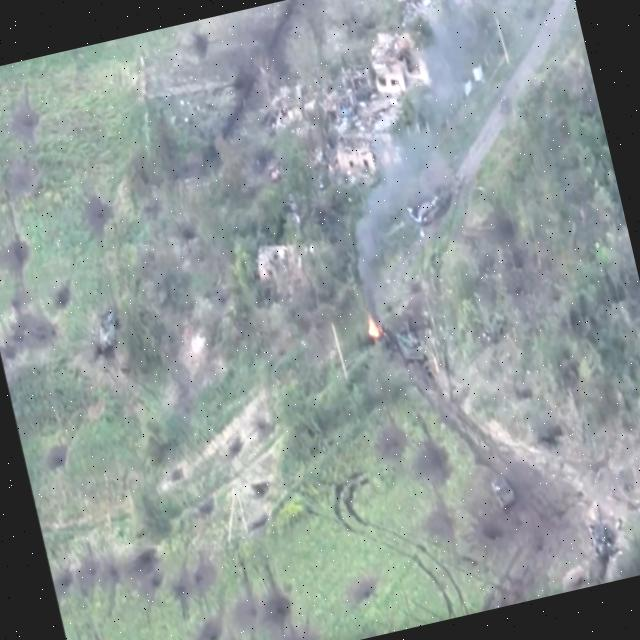AIFV: (91, 307, 126, 358), (487, 468, 520, 517)
Destroyed: (365, 322, 395, 354)
MBT: (395, 318, 427, 368)
Vehicle: (479, 309, 511, 351)
